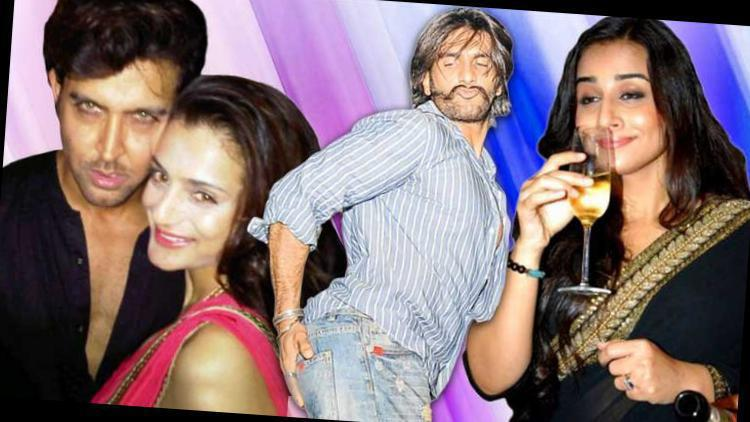Drunk: (61, 51, 162, 197), (147, 129, 225, 265), (574, 50, 658, 170), (430, 26, 498, 121)
